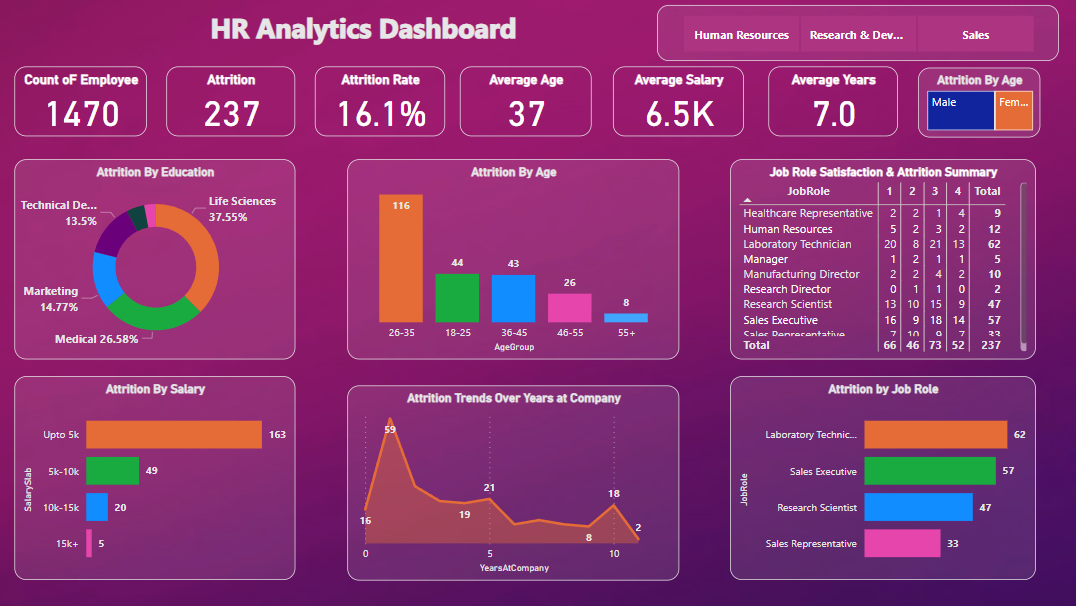

Layout of this report page (visuals, bound fields, positions):
{"tool":"powerbi","page":{"name":"Dashboard","canvas":[1280,720],"ordinal":1},"visuals":[{"type":"card","title":"Count oF Employee","fields":{"Values":["Count(HR_Analytics.EmpID)"]},"box":[20.1,81.5,157.2,82.6],"z":0},{"type":"card","title":"Attrition Rate","fields":{"Values":["HR_Analytics.AttritionRate"]},"box":[375.8,81.5,154.2,82.6],"z":1000},{"type":"card","title":"Attrition","fields":{"Values":["Sum(HR_Analytics.AttritionCount)"]},"box":[200.5,81.5,152.2,82.6],"z":2000},{"type":"card","title":"Average Age","fields":{"Values":["Avg(HR_Analytics.Age)"]},"box":[548.2,81.5,156.2,82.6],"z":3000},{"type":"card","title":"Average Salary","fields":{"Values":["Avg(HR_Analytics.MonthlyIncome)"]},"box":[729.6,81.5,155.2,82.6],"z":4000},{"type":"card","title":"Average Years","fields":{"Values":["Avg(HR_Analytics.YearsAtCompany)"]},"box":[914,81.5,153.2,82.6],"z":5000},{"type":"donutChart","title":"Attrition By Education","fields":{"Category":["HR_Analytics.EducationField"],"Y":["Sum(HR_Analytics.AttritionCount)"]},"box":[20.2,191.5,332.6,236.9],"z":6000},{"type":"columnChart","title":"Attrition By Age","fields":{"Category":["HR_Analytics.AgeGroup"],"Y":["Sum(HR_Analytics.AttritionCount)"]},"box":[414.2,191.5,393.1,236.9],"z":7000},{"type":"pivotTable","title":"Job Role Satisfaction & Attrition Summary","fields":{"Rows":["HR_Analytics.JobRole"],"Columns":["HR_Analytics.JobSatisfaction"],"Values":["Sum(HR_Analytics.AttritionCount)"]},"box":[867.8,191.5,361.8,236.9],"z":8000},{"type":"clusteredBarChart","title":"Attrition By Salary","fields":{"Category":["HR_Analytics.SalarySlab"],"Y":["Sum(HR_Analytics.AttritionCount)"]},"box":[20.3,447.3,332.6,241.7],"z":9000},{"type":"clusteredBarChart","title":"Attrition by Job Role","fields":{"Category":["HR_Analytics.JobRole"],"Y":["Sum(HR_Analytics.AttritionCount)"]},"box":[868,447.3,361.7,241.7],"z":10000},{"type":"areaChart","title":"Attrition Trends Over Years at Company","fields":{"Category":["HR_Analytics.YearsAtCompany"],"Y":["Sum(HR_Analytics.AttritionCount)"]},"box":[414.2,458.6,393.1,230.8],"z":11000},{"type":"treemap","title":"Attrition By Age","fields":{"Group":["HR_Analytics.Gender"],"Values":["Sum(HR_Analytics.AttritionCount)"]},"box":[1091,82,145,83],"z":12000},{"type":"slicer","fields":{"Values":["HR_Analytics.Department"]},"box":[781.1,8.1,475.7,66.5],"z":13000},{"type":"textbox","box":[209.6,8.1,447.5,66.5],"z":15000}]}

Visuals, with their boxes in screenshot pixels (x1, y1, x2, y2), scaled from the page's 1280x720 canvas onto the 1076x606 screenshot:
"Count oF Employee" card: {"left": 17, "top": 69, "right": 149, "bottom": 138}
"Attrition Rate" card: {"left": 316, "top": 69, "right": 446, "bottom": 138}
"Attrition" card: {"left": 169, "top": 69, "right": 296, "bottom": 138}
"Average Age" card: {"left": 461, "top": 69, "right": 592, "bottom": 138}
"Average Salary" card: {"left": 613, "top": 69, "right": 744, "bottom": 138}
"Average Years" card: {"left": 768, "top": 69, "right": 897, "bottom": 138}
"Attrition By Education" donutChart: {"left": 17, "top": 161, "right": 297, "bottom": 361}
"Attrition By Age" columnChart: {"left": 348, "top": 161, "right": 679, "bottom": 361}
"Job Role Satisfaction & Attrition Summary" pivotTable: {"left": 729, "top": 161, "right": 1034, "bottom": 361}
"Attrition By Salary" clusteredBarChart: {"left": 17, "top": 376, "right": 297, "bottom": 580}
"Attrition by Job Role" clusteredBarChart: {"left": 730, "top": 376, "right": 1034, "bottom": 580}
"Attrition Trends Over Years at Company" areaChart: {"left": 348, "top": 386, "right": 679, "bottom": 580}
"Attrition By Age" treemap: {"left": 917, "top": 69, "right": 1039, "bottom": 139}
slicer - HR_Analytics.Department: {"left": 657, "top": 7, "right": 1056, "bottom": 63}
textbox: {"left": 176, "top": 7, "right": 552, "bottom": 63}
